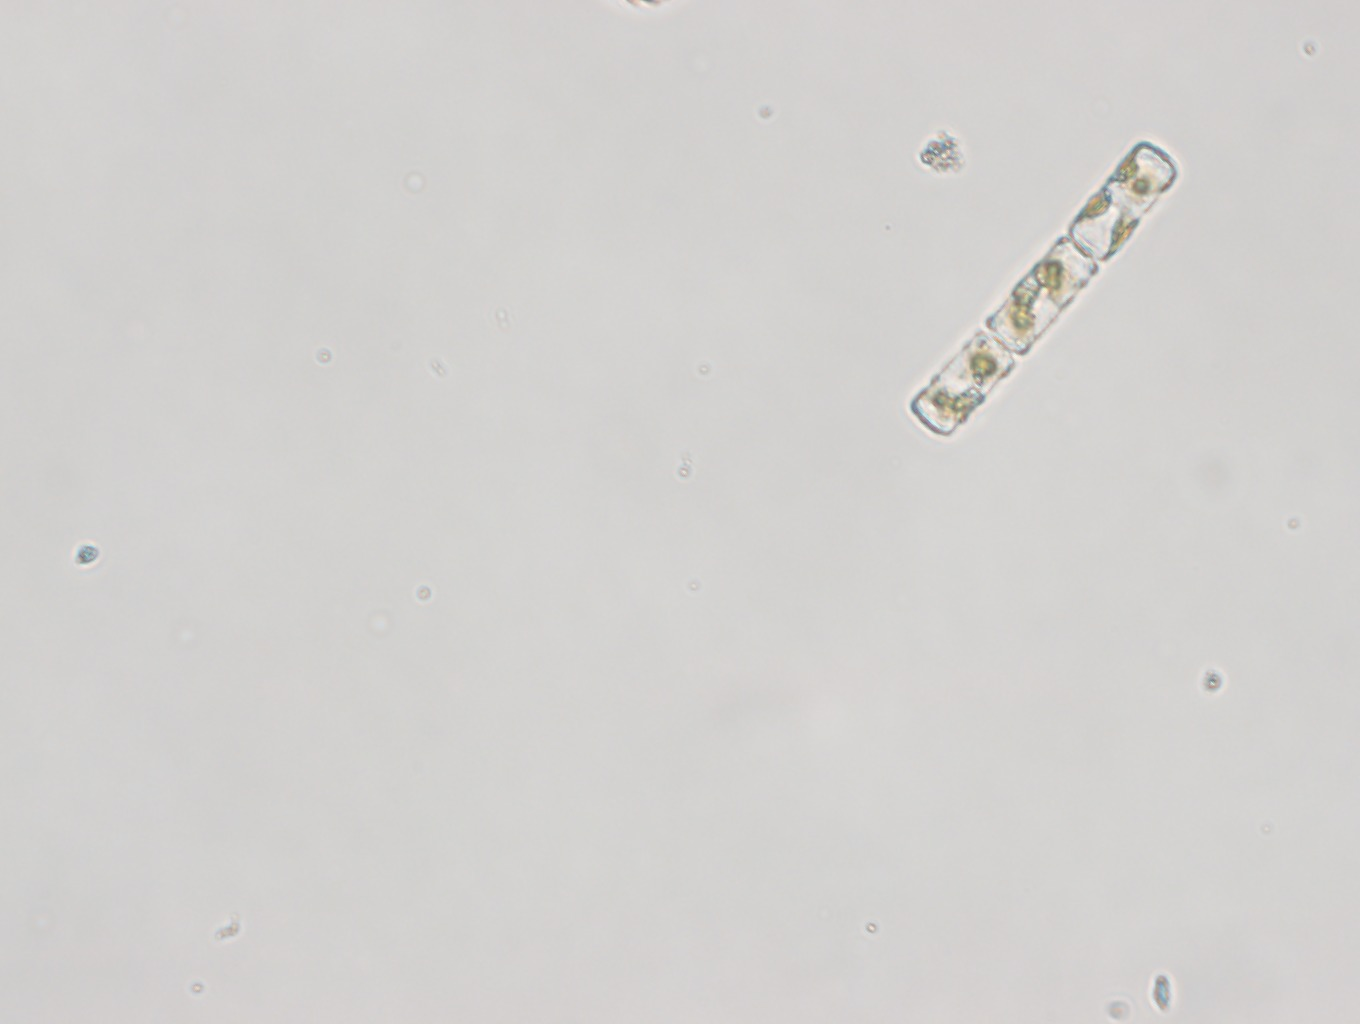guinardia flaccida: (898, 136, 1188, 454)
